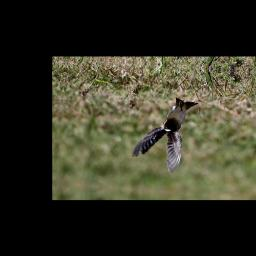Swallow: (130, 95, 199, 175)
